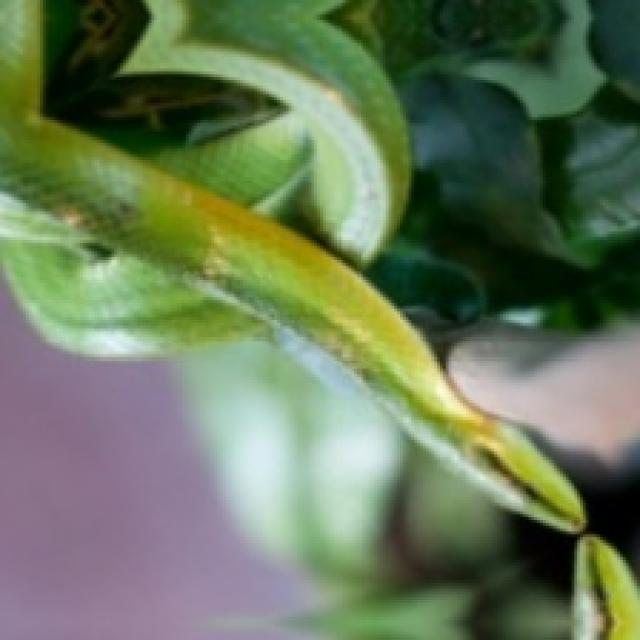red-tailed green ratsnake: (0, 0, 585, 532), (572, 535, 640, 639)
